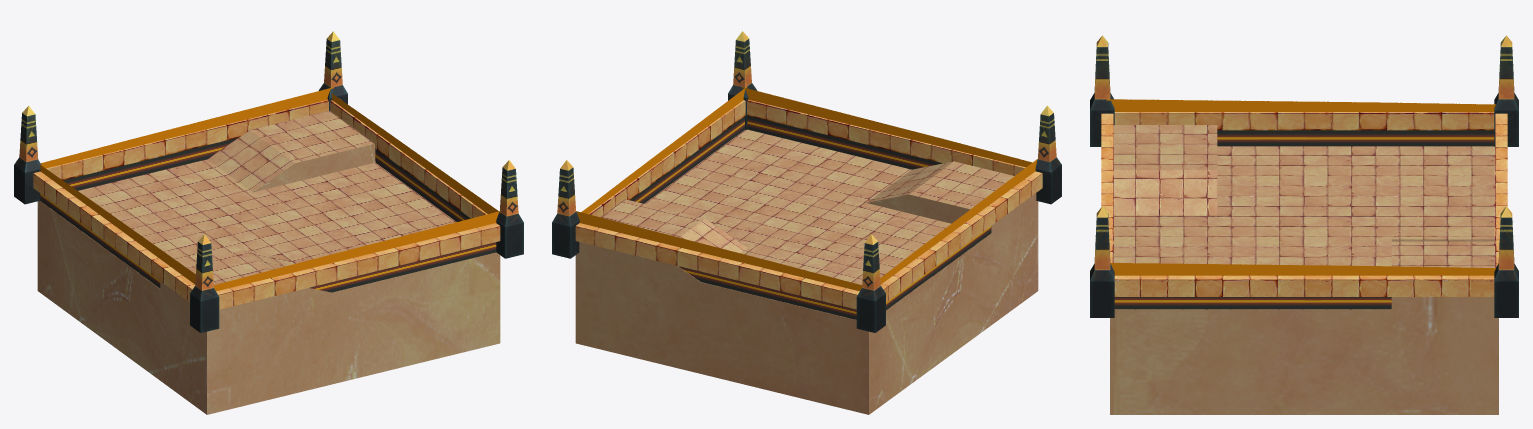
File: Boss_Stage Mechalodon Variant.fbx
3 views of the same model, side by side, from view 1: azimuth 30°, elevation 25°; view 2: azimuth 150°, elevation 25°; view 3: azimuth 270°, elevation 25° (orthographic). The views are drawn at different scales.
Parts seen in each view (by area): view 1: CR_Platform_Cube.083, CR_Platform_Cube.078, Plane.197, CR_Platform_Cube.082, Cube.107; view 2: CR_Platform_Cube.083, CR_Platform_Cube.078, Plane.197, CR_Platform_Cube.082, Cube.107; view 3: CR_Platform_Cube.083, CR_Platform_Cube.082, Plane.197, Cube.107, CR_Platform_Cube.078.
Boxes of the visible parts, bbox=[...] form: CR_Platform_Cube.083: bbox=[37, 111, 500, 414]; CR_Platform_Cube.078: bbox=[46, 99, 500, 309]; Plane.197: bbox=[39, 87, 500, 291]; CR_Platform_Cube.082: bbox=[33, 99, 487, 302]; Cube.107: bbox=[14, 31, 523, 332]; CR_Platform_Cube.083: bbox=[575, 129, 1038, 414]; CR_Platform_Cube.078: bbox=[575, 99, 1025, 319]; Plane.197: bbox=[576, 87, 1037, 291]; CR_Platform_Cube.082: bbox=[582, 100, 1042, 309]; Cube.107: bbox=[552, 31, 1061, 332]; CR_Platform_Cube.083: bbox=[1110, 125, 1498, 414]; CR_Platform_Cube.082: bbox=[1114, 112, 1494, 309]; Plane.197: bbox=[1106, 99, 1495, 275]; Cube.107: bbox=[1090, 35, 1518, 317]; CR_Platform_Cube.078: bbox=[1101, 113, 1507, 267].
Size of the model in its own units: 3687 by 2229 by 3686.
